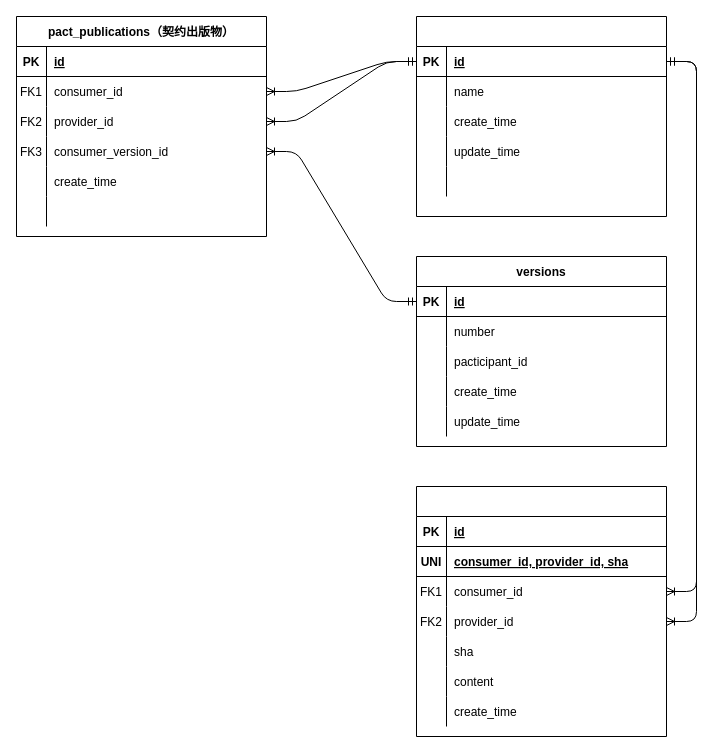
Image size: 713x753. Some labels were removed from this diagram. Here are the shapes that lost their labels. From the top down, the box of each, then its label:
(416, 16, 666, 216): pacticipants（参与者）
(416, 486, 666, 736): pact_versions
